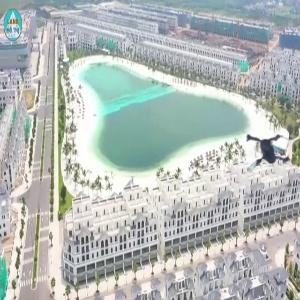drone: (222, 120, 299, 197)
